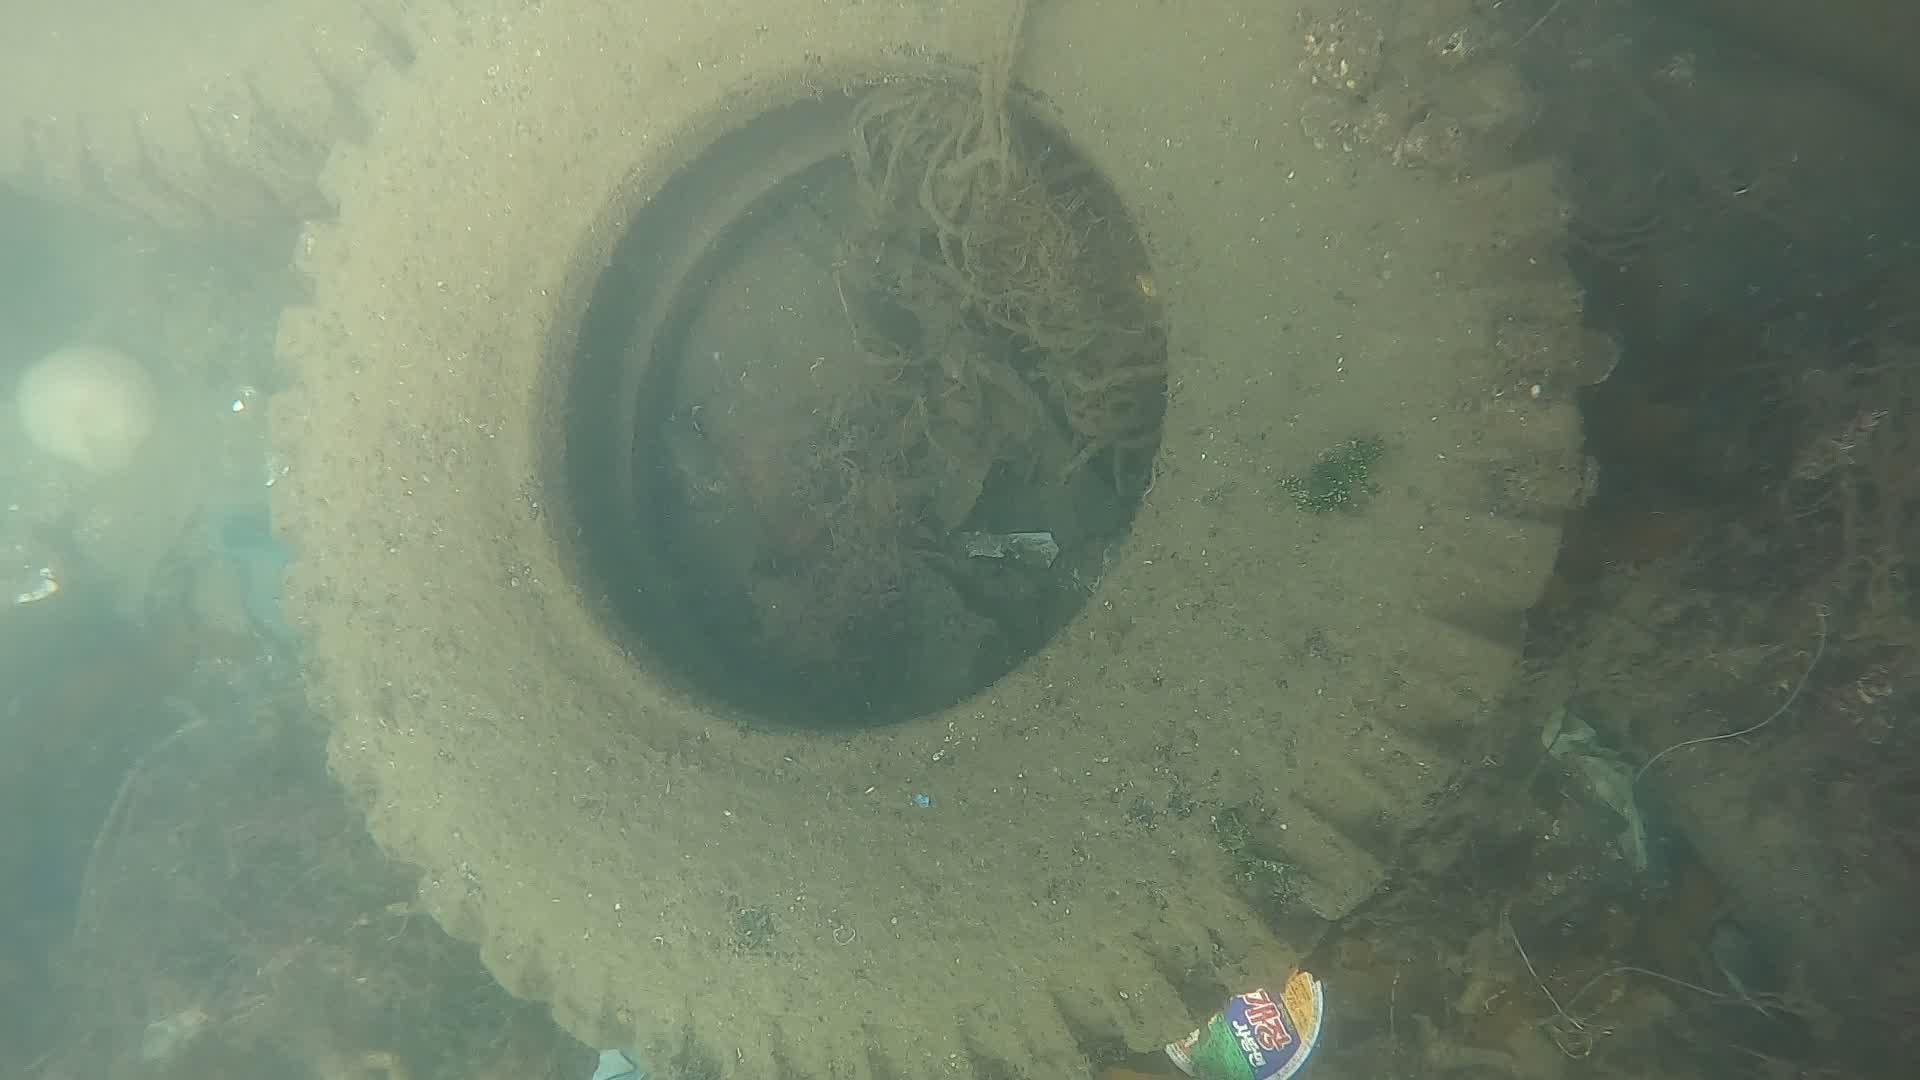bundle of rope: (804, 15, 1274, 533)
tire: (260, 0, 1586, 1080)
